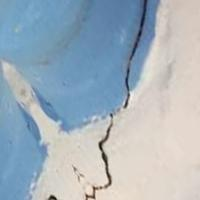crack: (82, 0, 152, 199)
